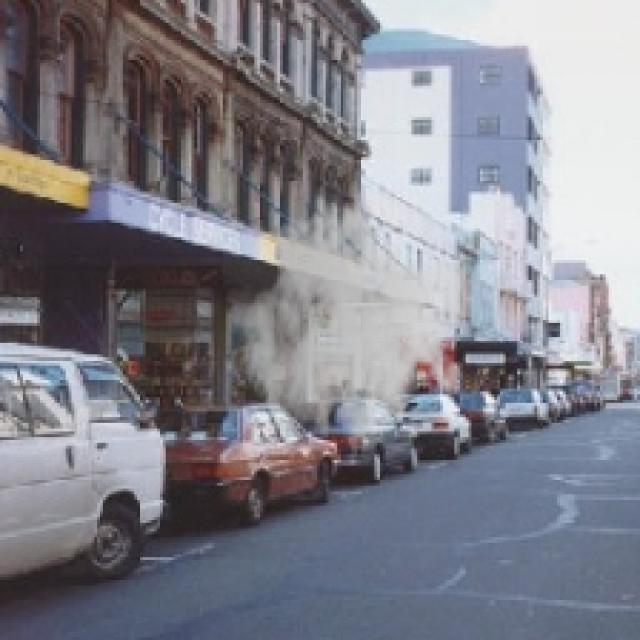smoke: (240, 194, 474, 472)
